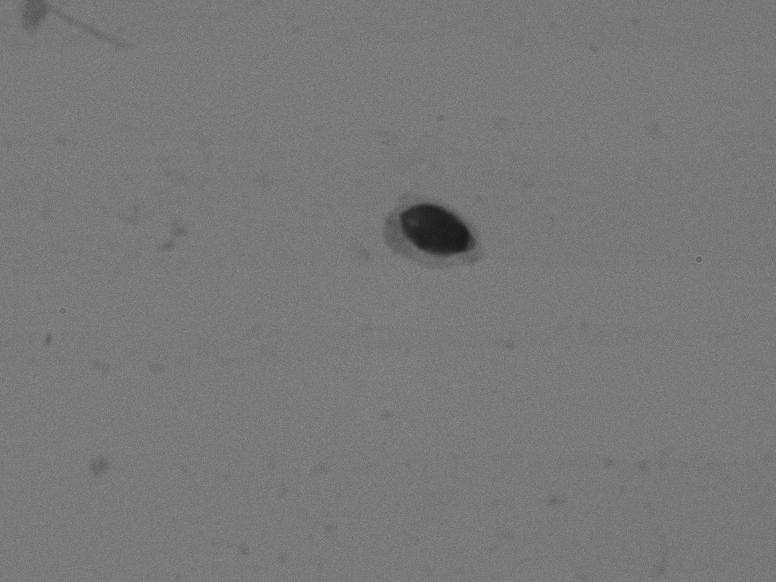Abnormal: (322, 151, 524, 327)
